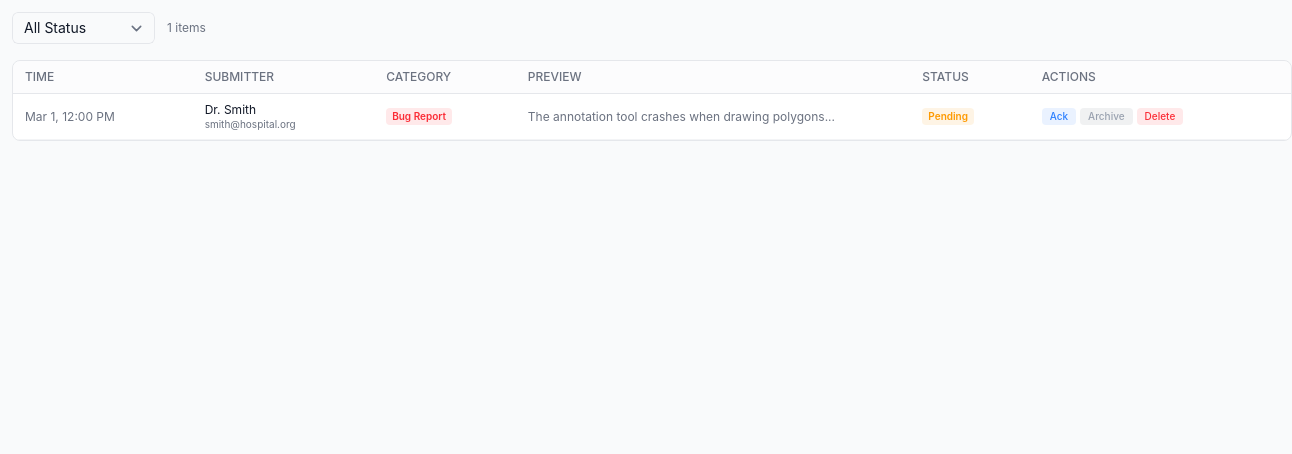
Scenario: Admin Feedback Page › expand and detail › shows admin notes textarea when expanded
Click the row that starts with "Mar 1, 12:00 PM": [652, 117] box left=13, top=94, right=1291, bottom=140
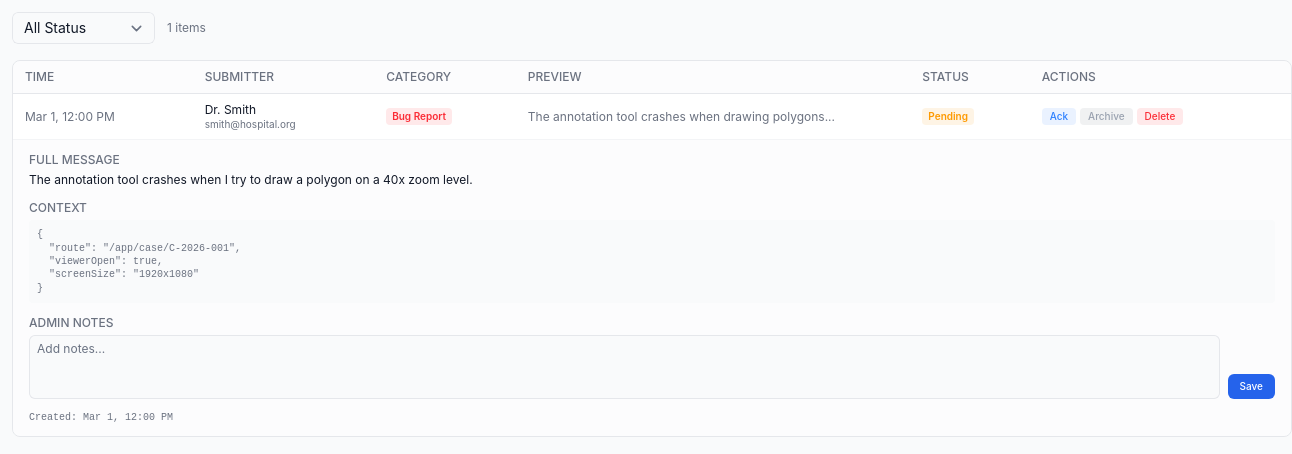
Expected: the text box with placeholder "Add notes..." is shown, left=29, top=335, right=1220, bottom=399
